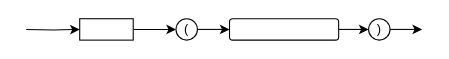
Image size: 449x59. Some labels were removed from this diagram. Here are the shapes that lost their labels. From the top down, the box of each, then its label:
(79, 18, 133, 40): ref
(228, 18, 339, 40): expression
